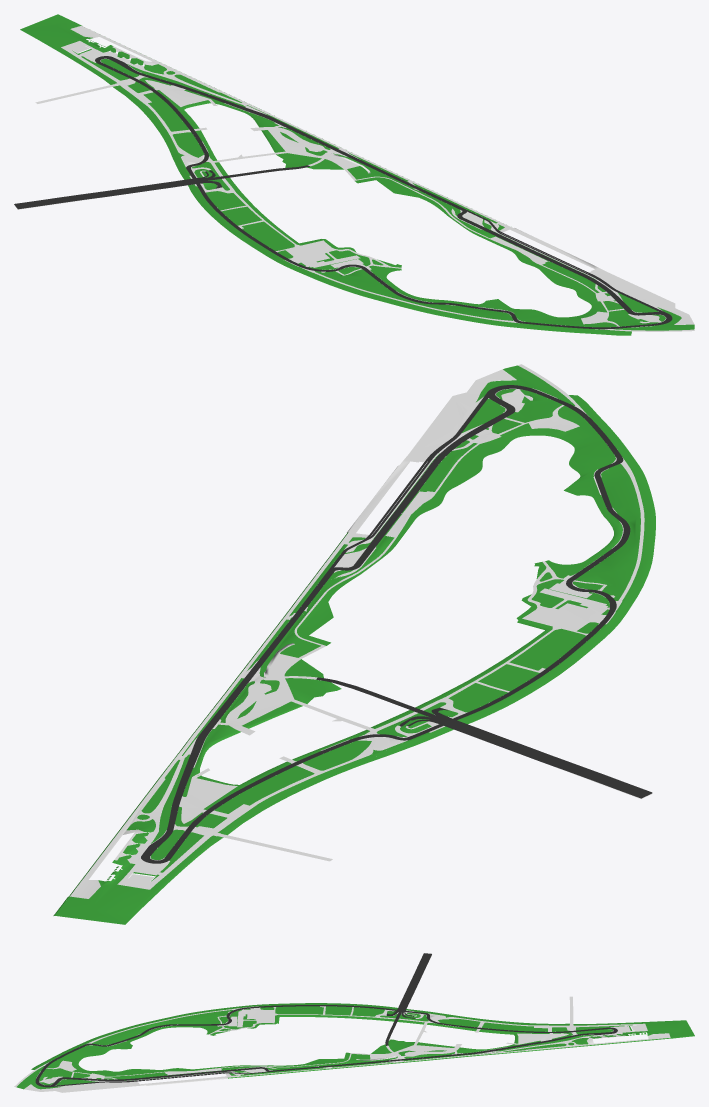
Rendered from physics.glb.
3 views of the same model, one above another, from view 1: azimuth 30°, elevation 25°; view 2: azimuth 150°, elevation 25°; view 3: azimuth 270°, elevation 25° (orthographic). The views are drawn at different scales.
Visible parts, largest first — view 1: Physics.006, Physics.005, Physics.009; view 2: Physics.006, Physics.005, Physics.009; view 3: Physics.006, Physics.005, Physics.009.
Part boxes in pixels (bbox=[...]): Physics.006: bbox=[20, 14, 694, 335]; Physics.005: bbox=[14, 25, 694, 331]; Physics.009: bbox=[14, 56, 672, 329]; Physics.006: bbox=[53, 365, 655, 924]; Physics.005: bbox=[69, 364, 652, 898]; Physics.009: bbox=[141, 385, 652, 863]; Physics.006: bbox=[16, 1003, 694, 1089]; Physics.005: bbox=[14, 954, 670, 1092]; Physics.009: bbox=[35, 953, 617, 1087].
Bounding box in the file's own units: 1068 × 11.97 × 2242.
